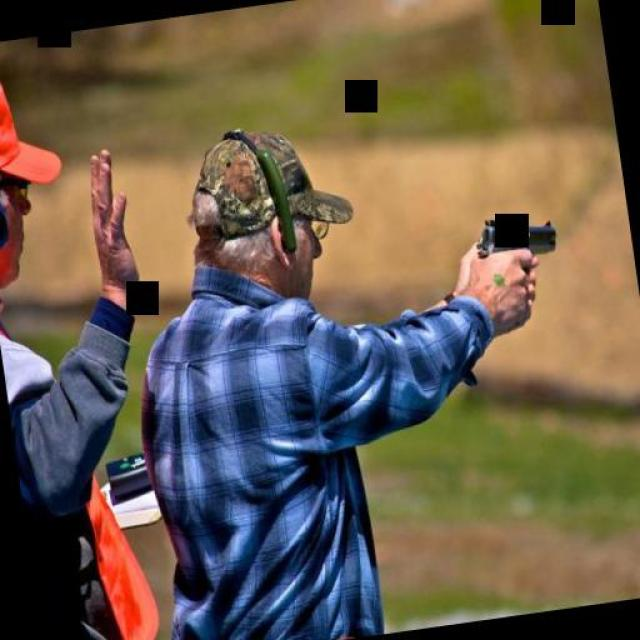gun: (465, 201, 563, 275)
